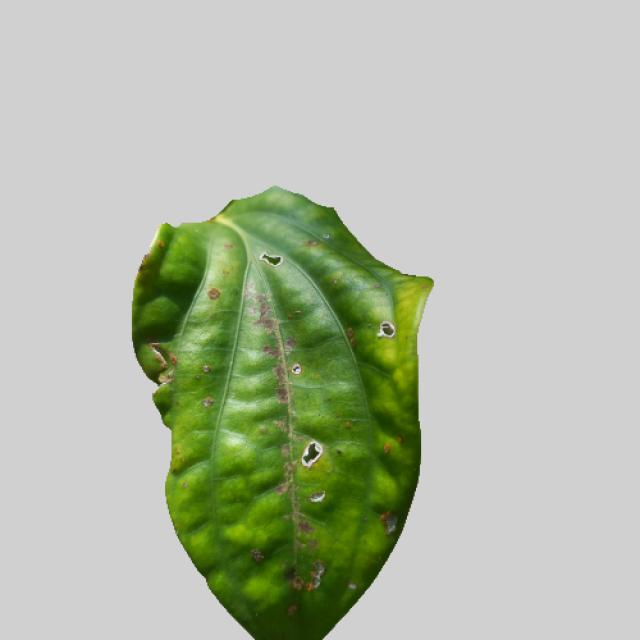yellow-mottle-virus: (123, 189, 435, 640)
